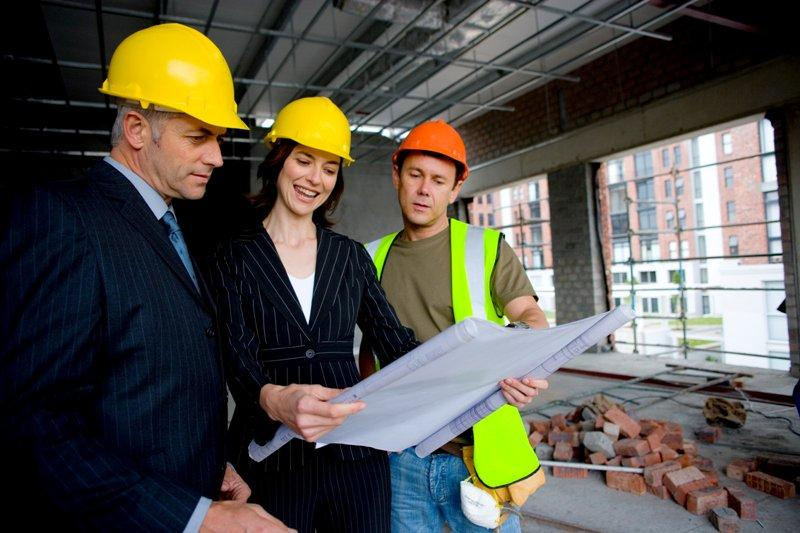helmet: (101, 23, 249, 138), (266, 93, 357, 166), (393, 120, 471, 182)
